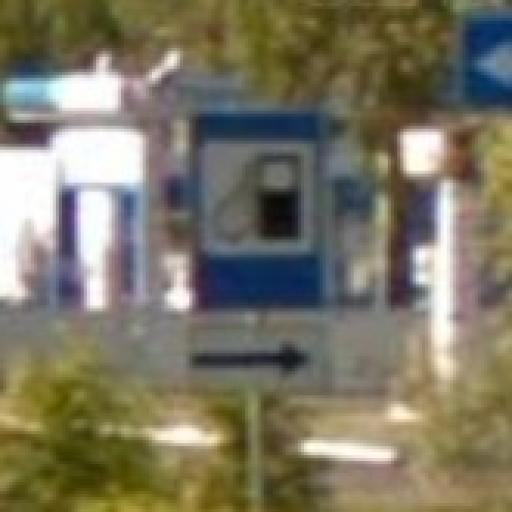traffic_sign: (190, 109, 330, 318)
